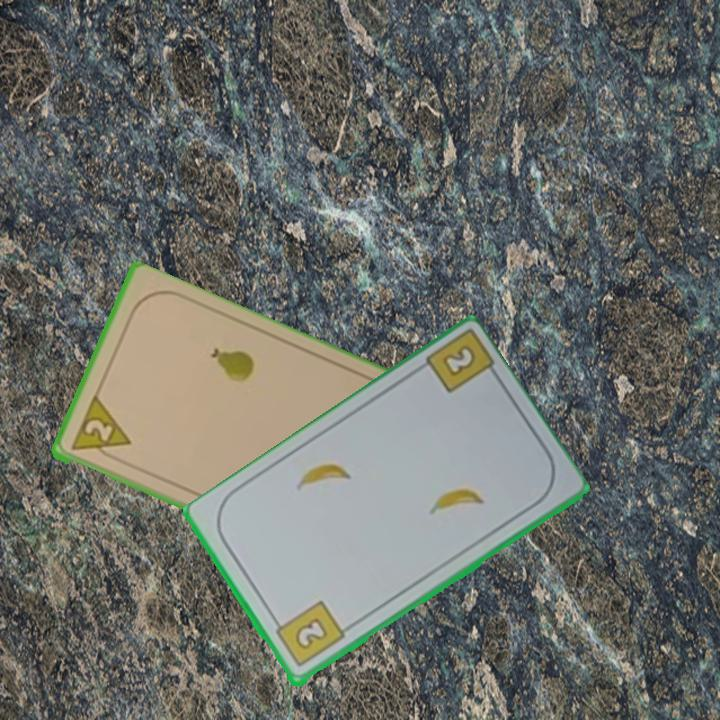2b: (269, 598, 348, 671), (438, 341, 479, 380)
2p: (66, 394, 134, 464)
